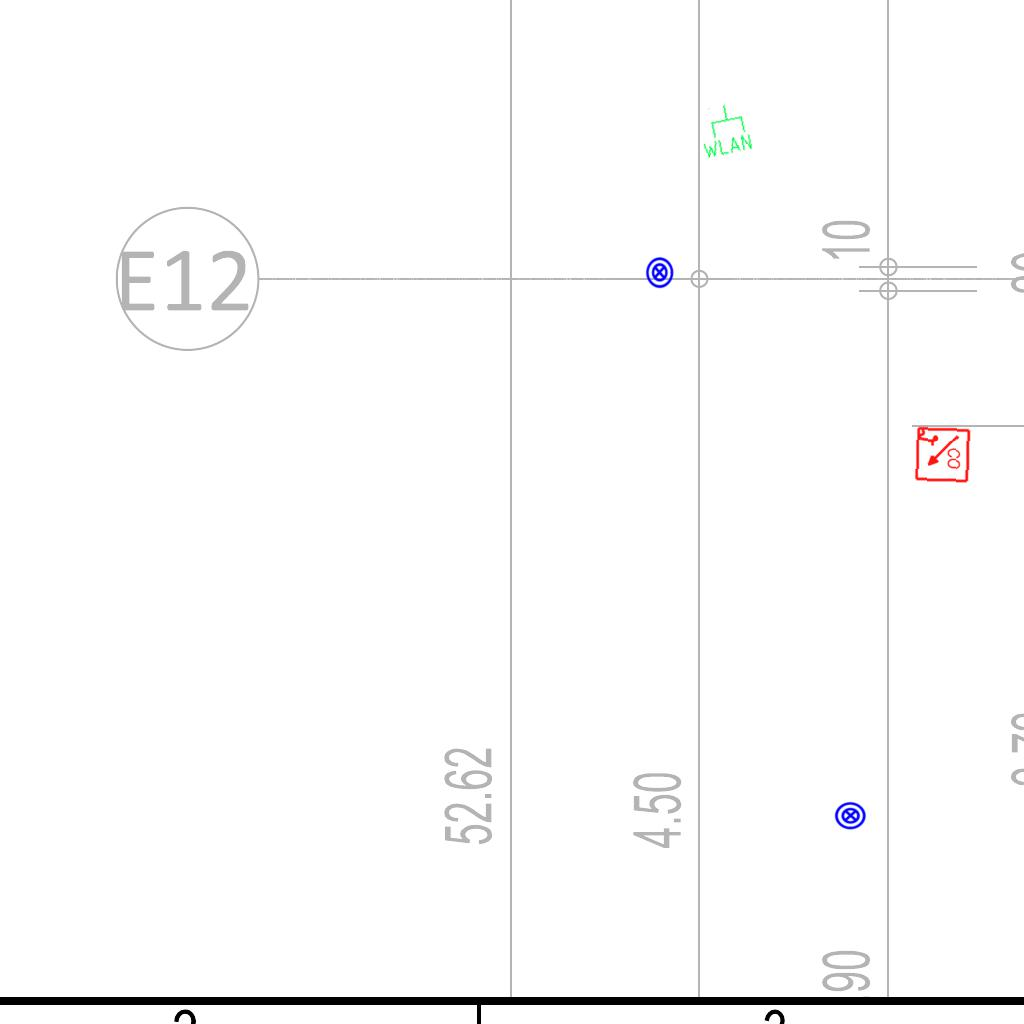ROA_Rauchmelder_optisch_mit_Signalgeber_(Sockelsirene): (913, 426, 971, 484)
Taster_beleuchtet: (643, 256, 676, 289), (834, 799, 867, 832)
WLAN: (693, 99, 755, 161)
